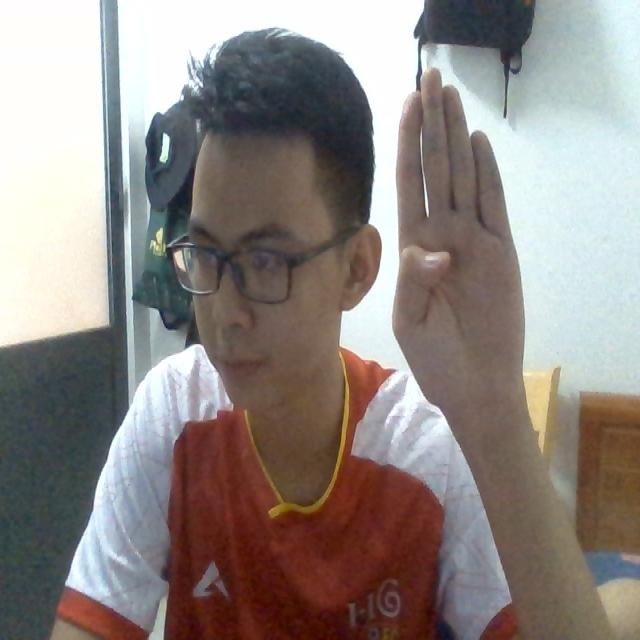B: (387, 59, 545, 470)
